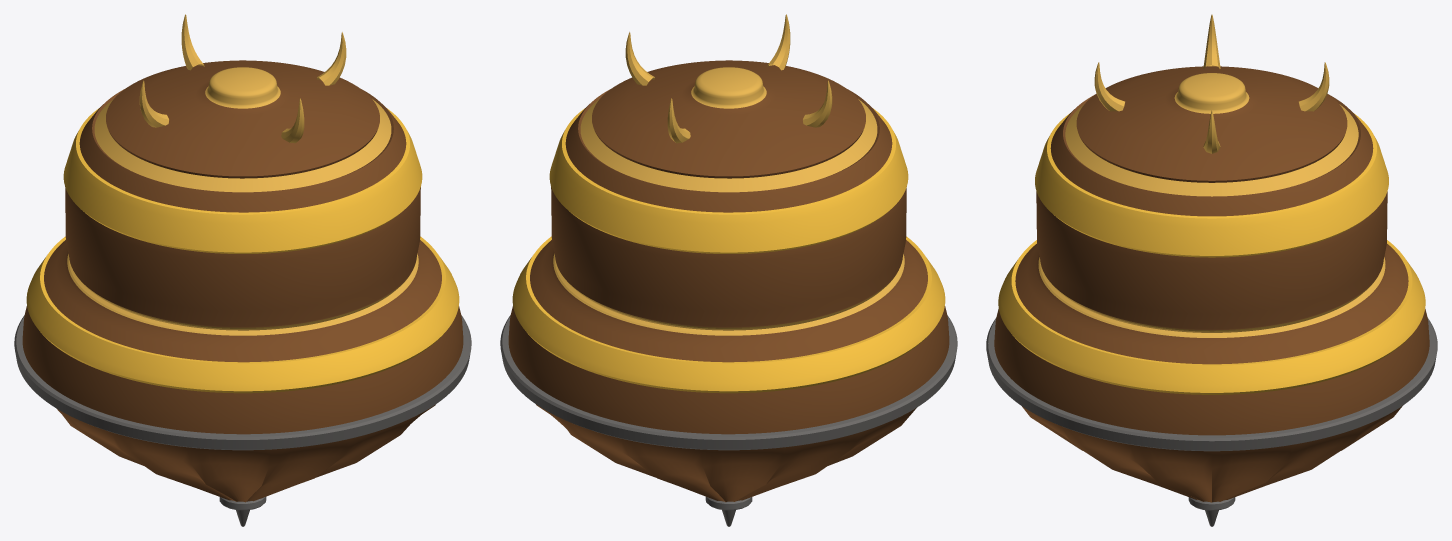
The model's file is gasing_nsembilan.glb.
3 views of the same model, side by side, from view 1: azimuth 30°, elevation 25°; view 2: azimuth 150°, elevation 25°; view 3: azimuth 270°, elevation 25° (orthographic).
Parts seen in each view (by area): view 1: Gasing_nsembilan; view 2: Gasing_nsembilan; view 3: Gasing_nsembilan.
Part boxes in pixels (x1,y1,x2,y2): Gasing_nsembilan: (14,14,471,526); Gasing_nsembilan: (500,14,957,526); Gasing_nsembilan: (986,14,1437,526).
Size of the model in its own units: 0.88 by 1 by 0.88.
